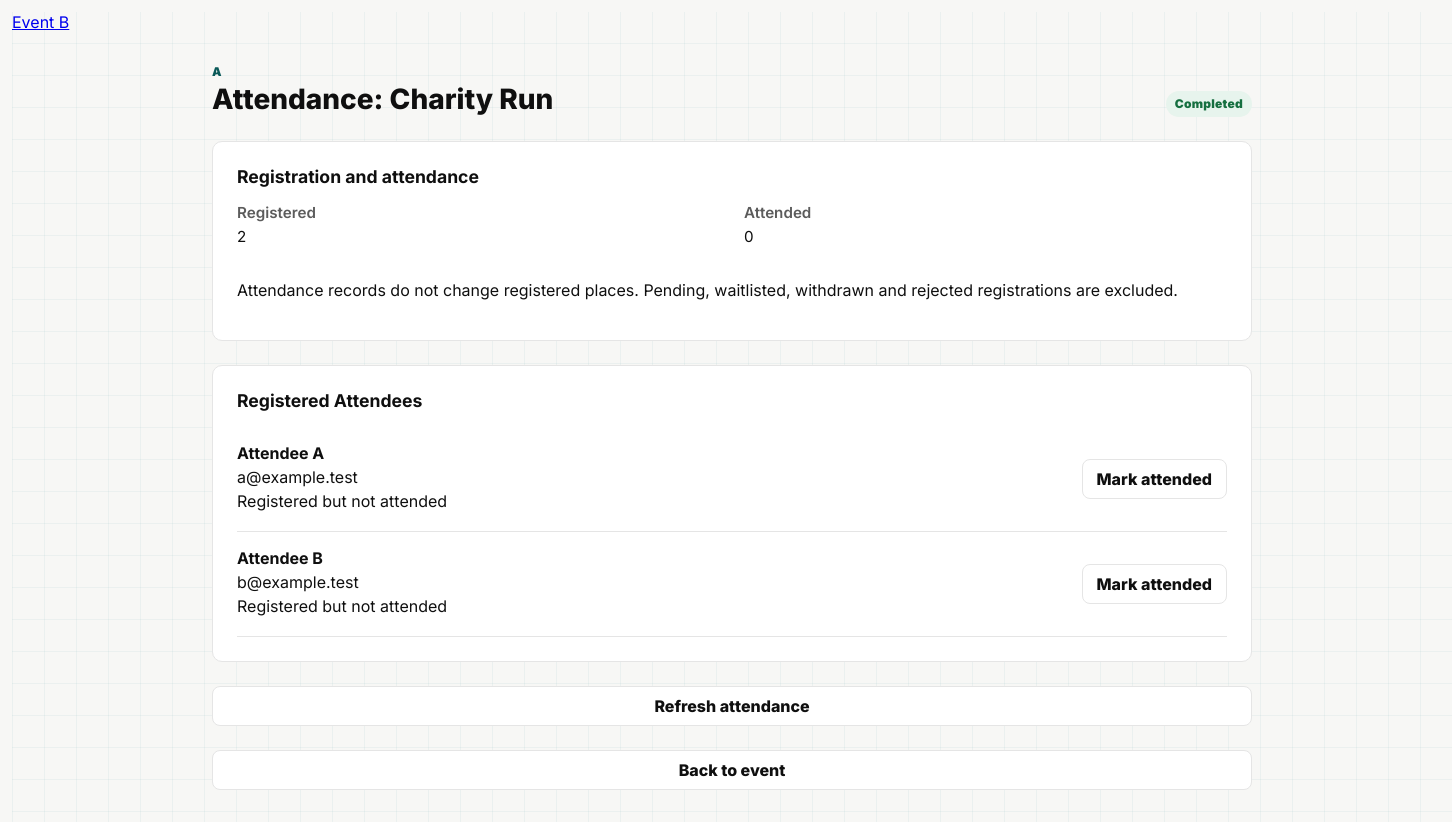
server write refusal is visible without changing the attendee
Click the button with aria-label "Mark attended: Attendee A" at [1154, 479], box [1082,459,1227,499]
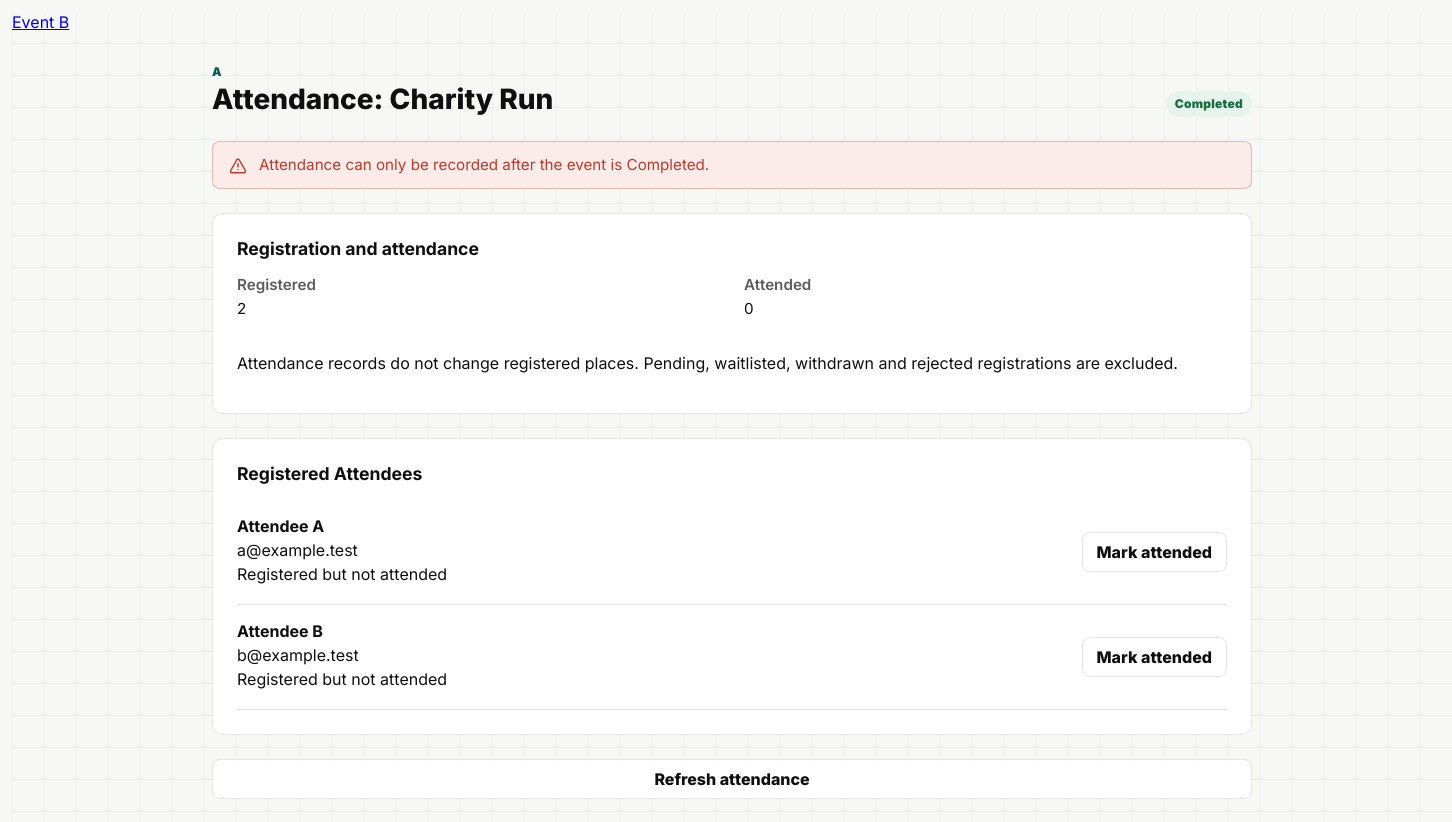
expect the text "Registered but not attended" is shown 2 times: met, box [237,564,447,584]; [237,669,447,689]
expect the text "Attendance can only be recorded after the event is Completed." is shown: met, box [259,155,709,174]
